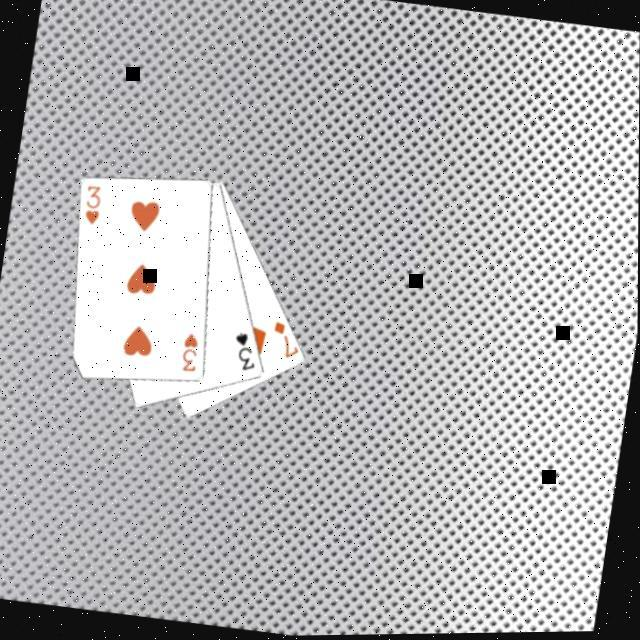3H: (78, 181, 106, 228), (177, 329, 203, 375)
3S: (227, 328, 263, 374)
7D: (266, 317, 303, 362)
